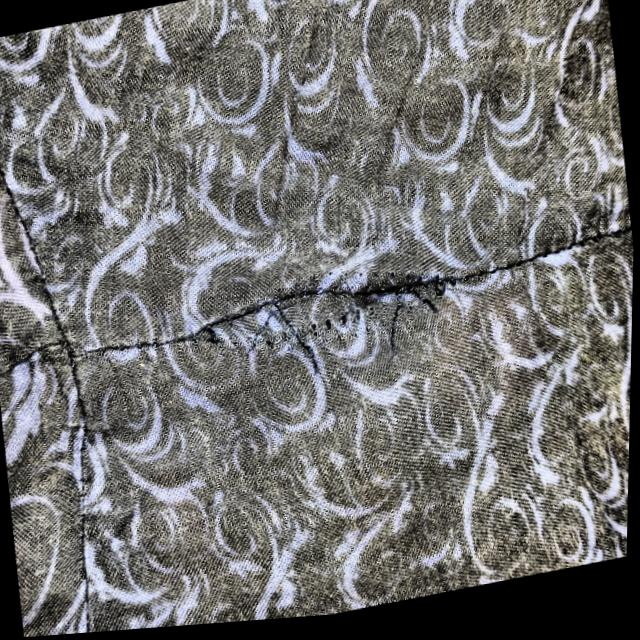seam: (150, 214, 475, 434)
